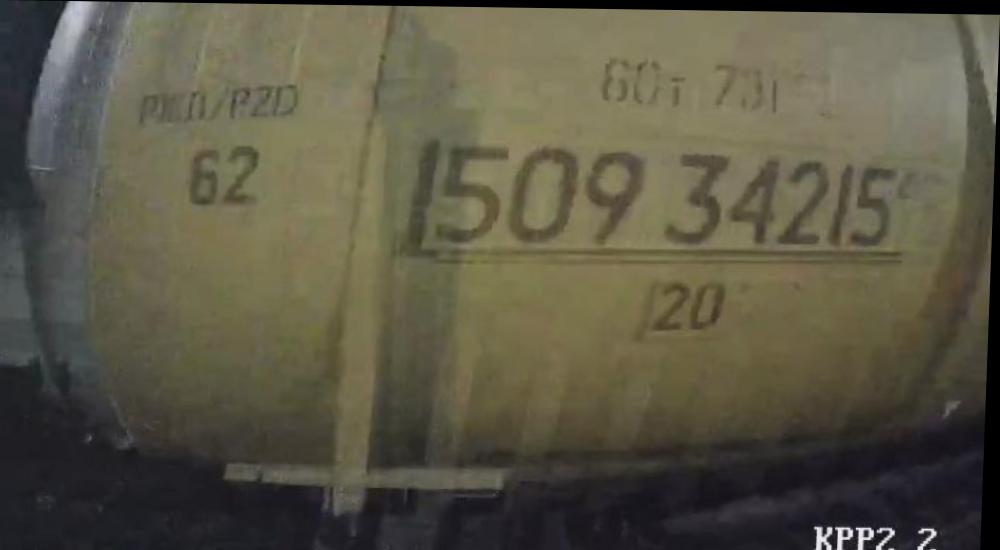Wagon-number: (430, 141, 901, 253)
